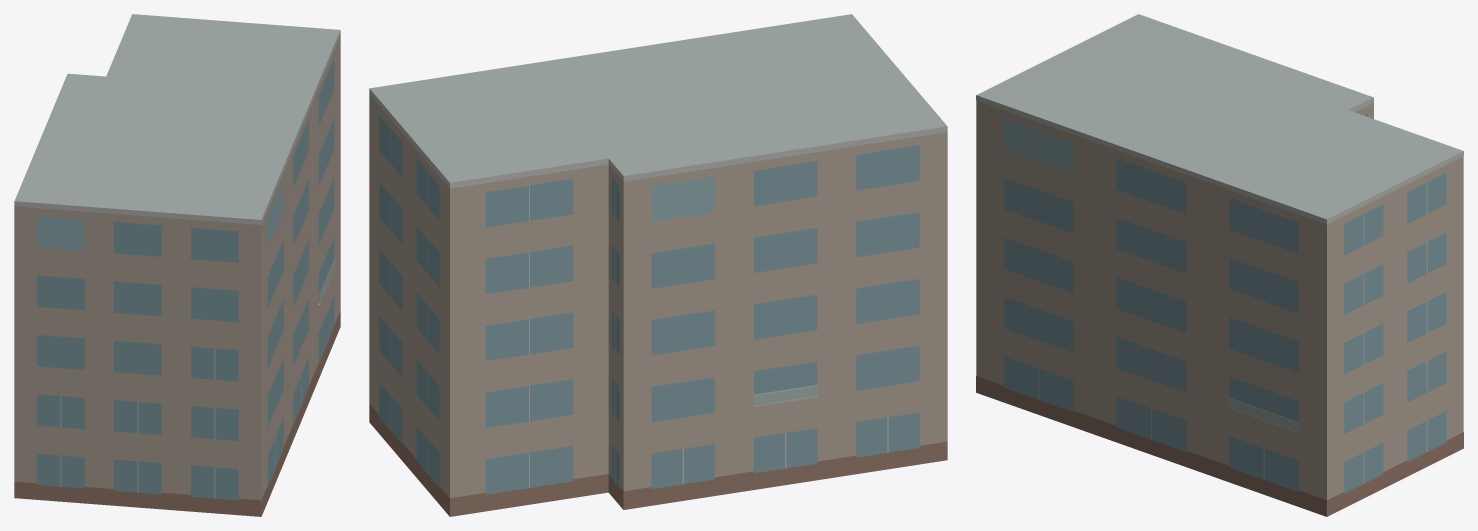
File: survey-upis-32935659.glb
3 renders of one model, left to right at view 1: azimuth 30°, elevation 25°; view 2: azimuth 150°, elevation 25°; view 3: azimuth 270°, elevation 25°, orthographic. The views are drawn at different scales.
Parts seen in each view (by area): view 1: survey-upis-32935659.tmp; view 2: survey-upis-32935659.tmp; view 3: survey-upis-32935659.tmp.
Part boxes in pixels (x1,y1,x2,y2): survey-upis-32935659.tmp: (14,14,340,516); survey-upis-32935659.tmp: (369,14,947,516); survey-upis-32935659.tmp: (976,14,1463,516).
Size of the model in its own units: 21.03 by 14.2 by 21.1.
